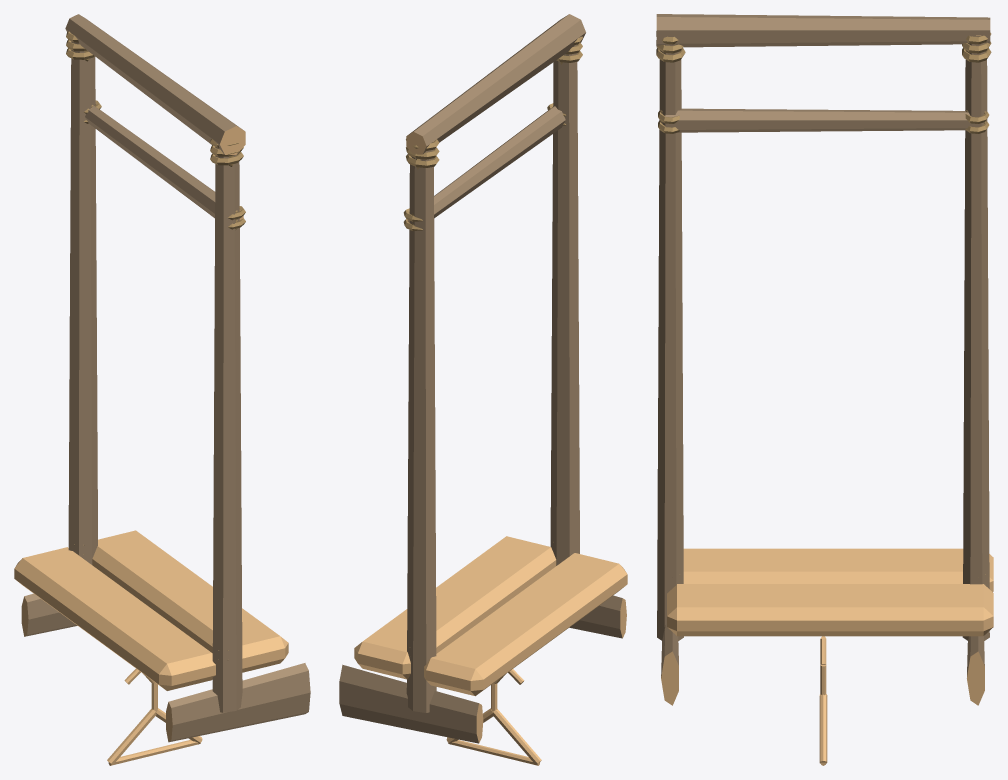
Rendered from furniture.wardrobe.fbx.
3 views of the same model, side by side, from view 1: azimuth 30°, elevation 25°; view 2: azimuth 150°, elevation 25°; view 3: azimuth 270°, elevation 25° (orthographic). The views are drawn at different scales.
Parts seen in each view (by area): view 1: Wardrobe_Native_FrameL, Wardrobe_Native_FrameR, Wardrobe_Foot_L, Wardrobe_Native_TopRail, Wardrobe_ShoeShelf_04, Wardrobe_ShoeShelf_00, Wardrobe_Native_HangRail, Wardrobe_ShoeShelf_06, Wardrobe_ShoeShelf_05, Wardrobe_ShoeShelf_01, Wardrobe_ShoeShelf_02, Wardrobe_Foot_R (+4 smaller); view 2: Wardrobe_Native_FrameR, Wardrobe_Native_FrameL, Wardrobe_Foot_R, Wardrobe_Native_TopRail, Wardrobe_ShoeShelf_04, Wardrobe_ShoeShelf_00, Wardrobe_Native_HangRail, Wardrobe_ShoeShelf_05, Wardrobe_ShoeShelf_06, Wardrobe_ShoeShelf_02, Wardrobe_ShoeShelf_01, Wardrobe_Foot_L (+4 smaller); view 3: Wardrobe_Native_FrameL, Wardrobe_Native_FrameR, Wardrobe_ShoeShelf_03, Wardrobe_Native_TopRail, Wardrobe_Native_HangRail, Wardrobe_ShoeShelf_07, Wardrobe_ShoeShelf_02, Wardrobe_ShoeShelf_01, Wardrobe_ShoeShelf_05, Wardrobe_ShoeShelf_06, Wardrobe_ShoeShelf_04, Wardrobe_ShoeShelf_00 (+3 smaller).
Part boxes in pixels (x1=…): Wardrobe_Native_FrameL: x1=212, y1=147, x2=242, y2=712; Wardrobe_Native_FrameR: x1=68, y1=33, x2=97, y2=564; Wardrobe_Foot_L: x1=166, y1=663, x2=310, y2=742; Wardrobe_Native_TopRail: x1=65, y1=14, x2=245, y2=154; Wardrobe_ShoeShelf_04: x1=14, y1=556, x2=178, y2=690; Wardrobe_ShoeShelf_00: x1=92, y1=540, x2=247, y2=672; Wardrobe_Native_HangRail: x1=85, y1=105, x2=243, y2=219; Wardrobe_ShoeShelf_06: x1=45, y1=549, x2=209, y2=685; Wardrobe_ShoeShelf_05: x1=30, y1=552, x2=194, y2=689; Wardrobe_ShoeShelf_01: x1=98, y1=536, x2=262, y2=672; Wardrobe_ShoeShelf_02: x1=114, y1=532, x2=277, y2=668; Wardrobe_Foot_R: x1=21, y1=593, x2=77, y2=636; Wardrobe_Native_FrameR: x1=406, y1=141, x2=436, y2=712; Wardrobe_Native_FrameL: x1=550, y1=44, x2=579, y2=565; Wardrobe_Foot_R: x1=339, y1=664, x2=483, y2=743; Wardrobe_Native_TopRail: x1=406, y1=14, x2=585, y2=154; Wardrobe_ShoeShelf_04: x1=463, y1=562, x2=627, y2=696; Wardrobe_ShoeShelf_00: x1=395, y1=545, x2=556, y2=679; Wardrobe_Native_HangRail: x1=407, y1=106, x2=565, y2=222; Wardrobe_ShoeShelf_05: x1=448, y1=558, x2=611, y2=694; Wardrobe_ShoeShelf_06: x1=433, y1=554, x2=596, y2=690; Wardrobe_ShoeShelf_02: x1=365, y1=538, x2=528, y2=673; Wardrobe_ShoeShelf_01: x1=380, y1=541, x2=543, y2=677; Wardrobe_Foot_L: x1=569, y1=595, x2=626, y2=638; Wardrobe_Native_FrameL: x1=657, y1=44, x2=683, y2=640; Wardrobe_Native_FrameR: x1=962, y1=35, x2=989, y2=640; Wardrobe_ShoeShelf_03: x1=667, y1=603, x2=993, y2=636; Wardrobe_Native_TopRail: x1=656, y1=14, x2=990, y2=47; Wardrobe_Native_HangRail: x1=665, y1=108, x2=981, y2=132; Wardrobe_ShoeShelf_07: x1=683, y1=568, x2=993, y2=591; Wardrobe_ShoeShelf_02: x1=667, y1=595, x2=993, y2=612; Wardrobe_ShoeShelf_01: x1=667, y1=587, x2=993, y2=604; Wardrobe_ShoeShelf_05: x1=683, y1=552, x2=993, y2=568; Wardrobe_ShoeShelf_06: x1=683, y1=560, x2=993, y2=576; Wardrobe_ShoeShelf_04: x1=683, y1=548, x2=993, y2=560; Wardrobe_ShoeShelf_00: x1=667, y1=584, x2=993, y2=596.
Size of the model in its own units: 0.3861 by 1.76 by 0.7378.
